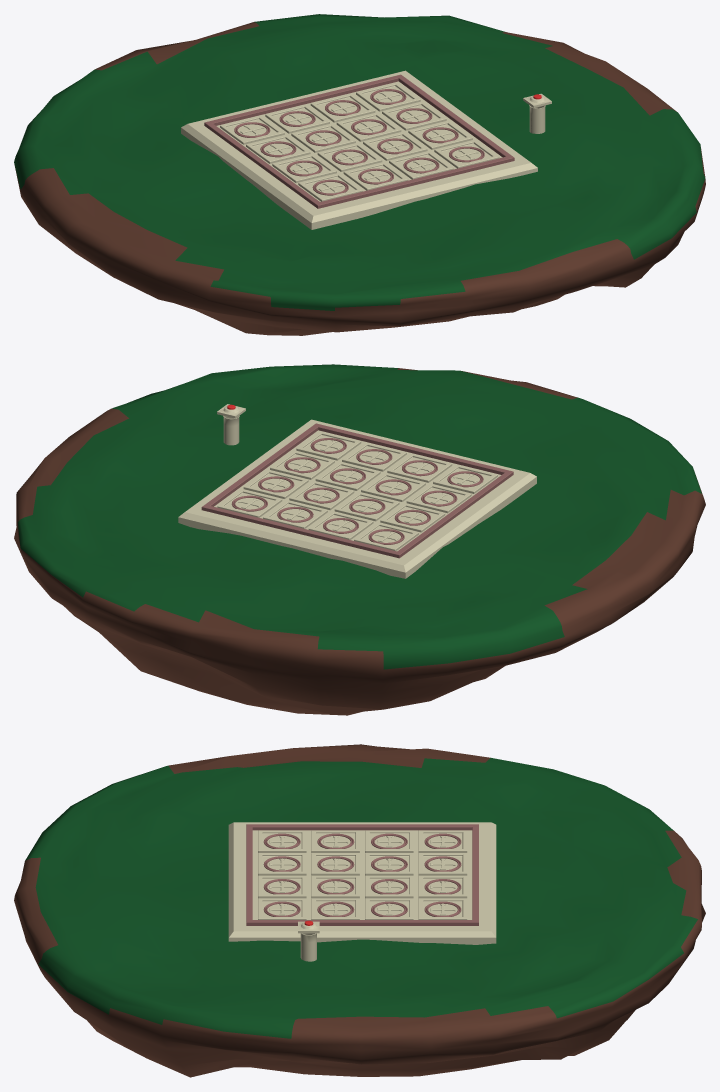
File: lypos_plates.fbx
3 views of the same model, one above another, from view 1: azimuth 30°, elevation 25°; view 2: azimuth 150°, elevation 25°; view 3: azimuth 270°, elevation 25° (orthographic). The views are drawn at different scales.
Parts seen in each view (by area): view 1: Plate_Platform.001, Plate_Platform, Plate.005, Plate.009, Plate.010, Plate.012, Plate.013, Plate.004, Plate.007, Plate.008, Plate.014, Plate.006 (+7 smaller); view 2: Plate_Platform.001, Plate_Platform, Plate.001, Plate.004, Plate.009, Plate.010, Plate.011, Plate.003, Plate.006, Plate, Plate.002, Plate.005 (+7 smaller); view 3: Plate_Platform.001, Plate_Platform, Plate.013, Plate.010, Plate.002, Plate.006, Plate.014, Plate.015, Plate, Plate.001, Plate.004, Plate.005 (+7 smaller).
Part boxes in pixels (x1,y1,x2,y2): Plate_Platform.001: (14, 14, 705, 335); Plate_Platform: (181, 70, 537, 229); Plate.005: (317, 142, 382, 171); Plate.009: (291, 123, 355, 152); Plate.010: (336, 112, 401, 141); Plate.012: (356, 82, 420, 111); Plate.013: (310, 93, 375, 122); Plate.004: (272, 154, 336, 182); Plate.007: (408, 120, 472, 149); Plate.008: (246, 134, 310, 163); Plate.014: (265, 104, 329, 133); Plate.006: (363, 131, 427, 160); Plate_Platform.001: (14, 364, 705, 715); Plate_Platform: (178, 419, 536, 578); Plate.001: (387, 453, 452, 482); Plate.004: (406, 483, 471, 513); Plate.009: (334, 492, 399, 521); Plate.010: (289, 480, 354, 510); Plate.011: (243, 469, 308, 498); Plate.003: (296, 431, 361, 460); Plate.006: (315, 461, 380, 490); Plate: (433, 464, 497, 493); Plate.002: (342, 442, 406, 471); Plate.005: (361, 472, 425, 501); Plate_Platform.001: (14, 744, 705, 1077); Plate_Platform: (228, 822, 496, 944); Plate.013: (418, 875, 467, 898); Plate.010: (365, 875, 413, 898); Plate.002: (258, 875, 306, 898); Plate.006: (311, 875, 359, 898); Plate.014: (418, 853, 467, 875); Plate.015: (418, 830, 467, 852); Plate: (258, 830, 306, 852); Plate.001: (258, 853, 306, 875); Plate.004: (311, 830, 359, 852); Plate.005: (311, 853, 359, 875).
Bounding box in the file's own units: 18.63 × 5.53 × 18.64.
